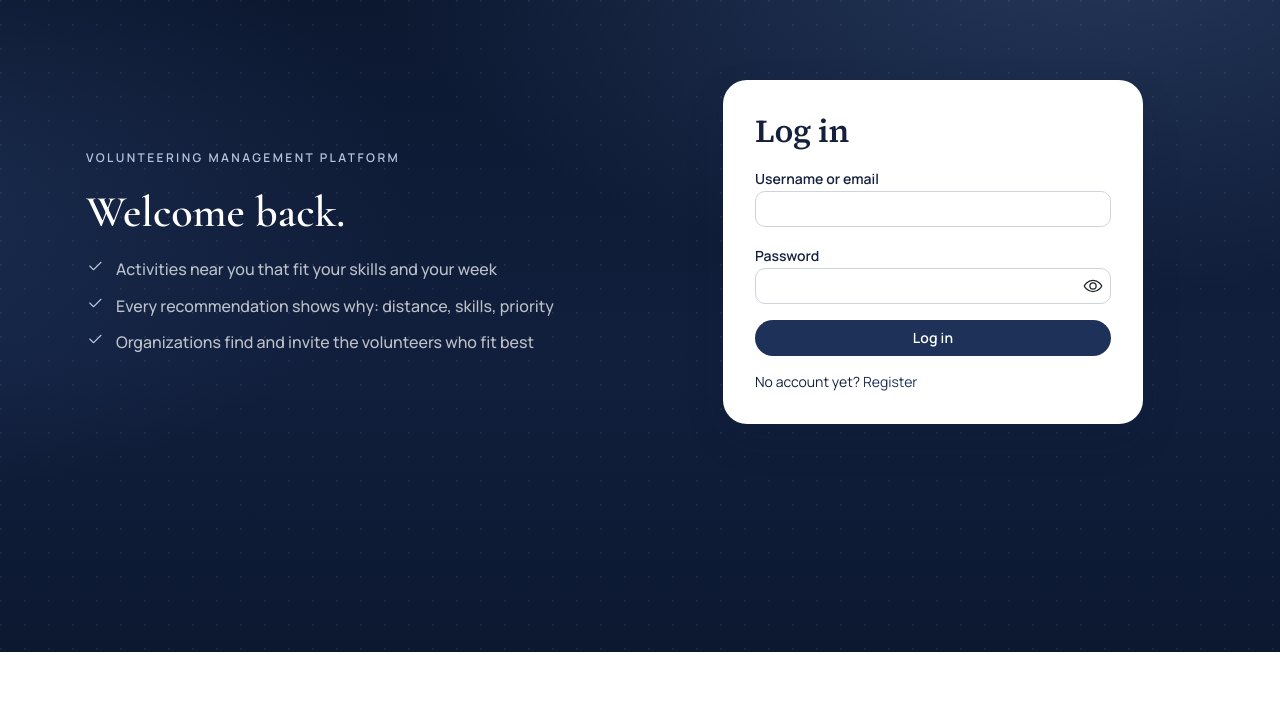
Test: LoginPage › shows the message of the backend when the login fails
Type "seed_org1" into the field labelled "Username or email".
click(933, 209); type("seed_org1")  # box 755,191 -> 1111,227
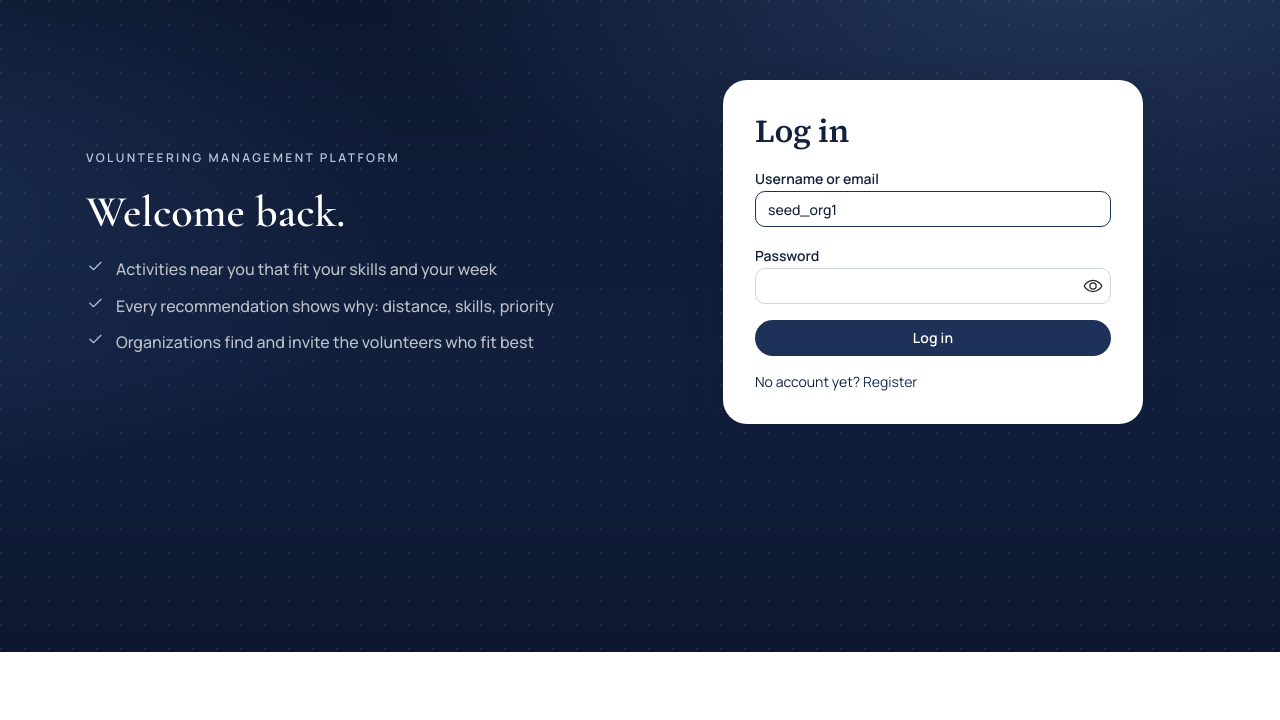
Type "wrong" into the password field labelled "Password".
click(933, 286); type("wrong")  # box 756,269 -> 1110,303
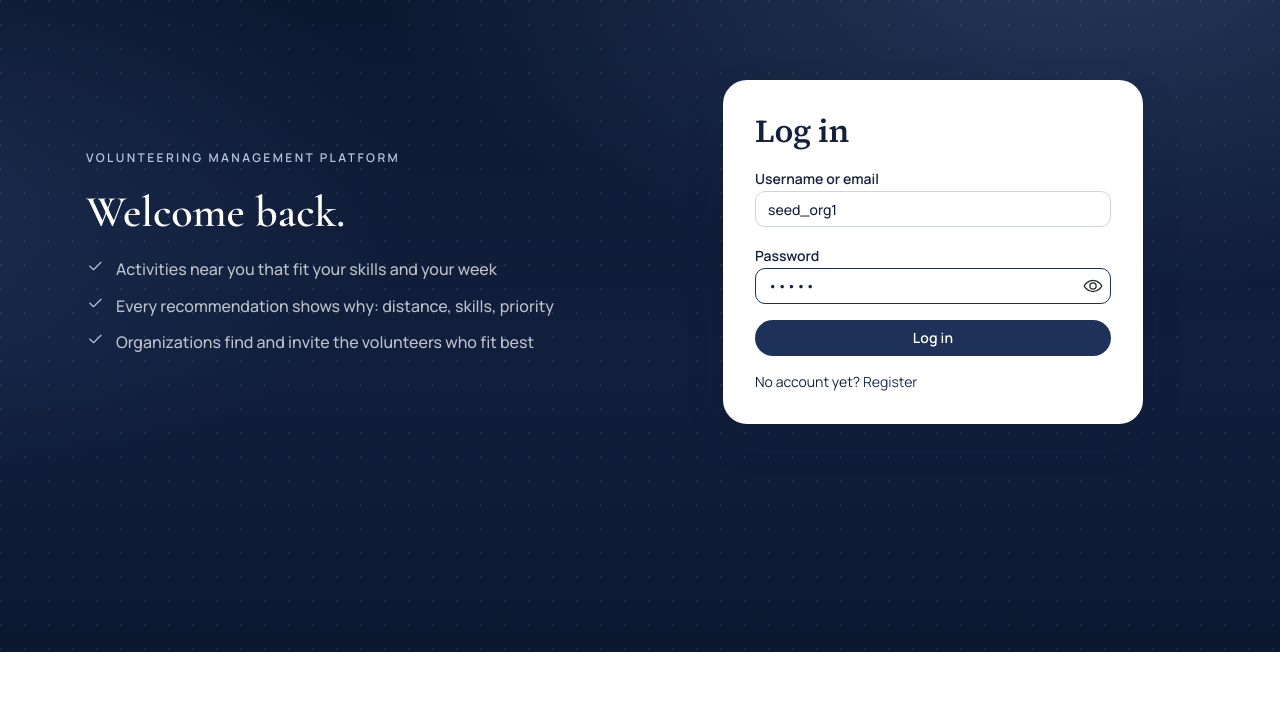
Click the button "Log in".
click(933, 338)  # box 755,320 -> 1111,356
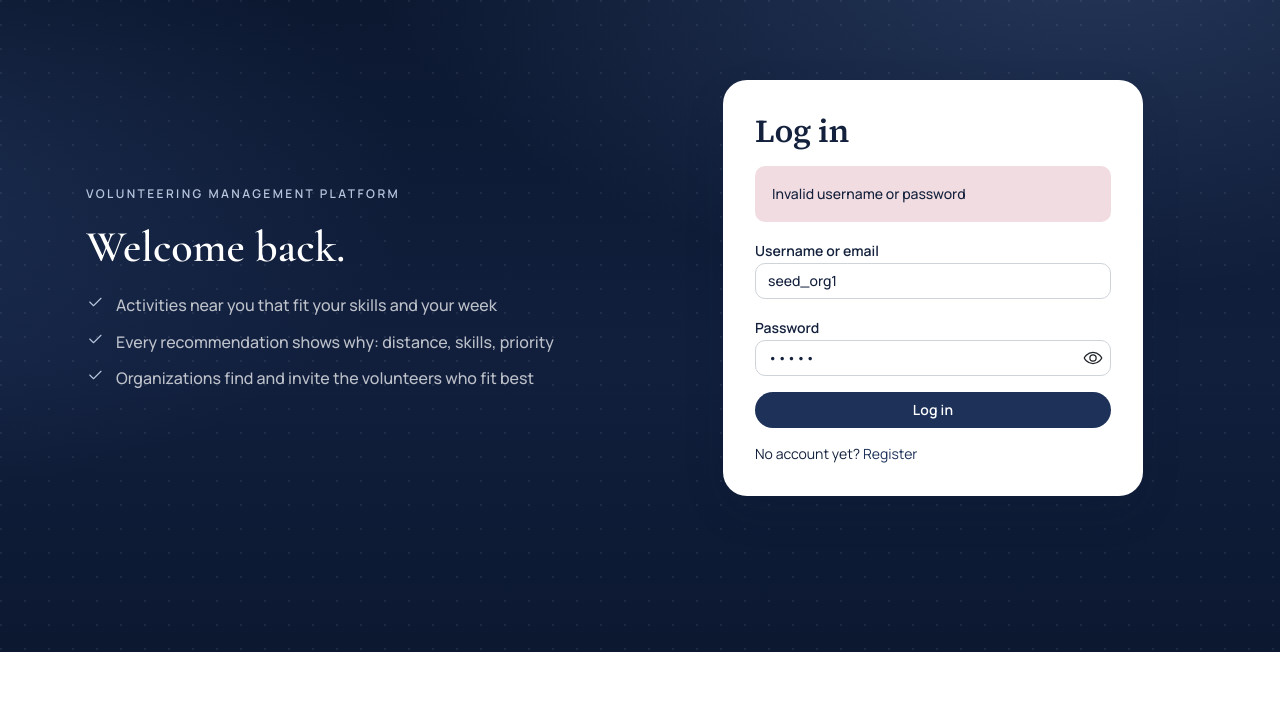
Now the text "Invalid username or password" is shown, box 772,184 -> 966,203
